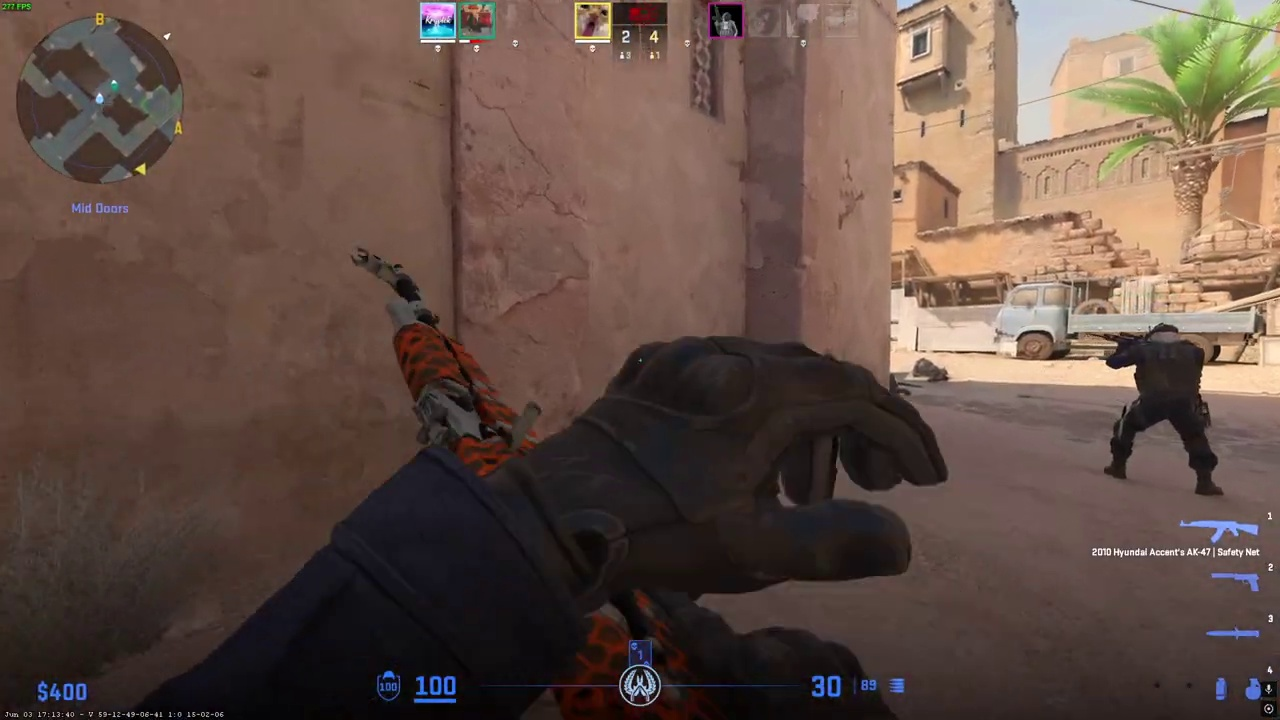CT: (1107, 322, 1216, 496)
